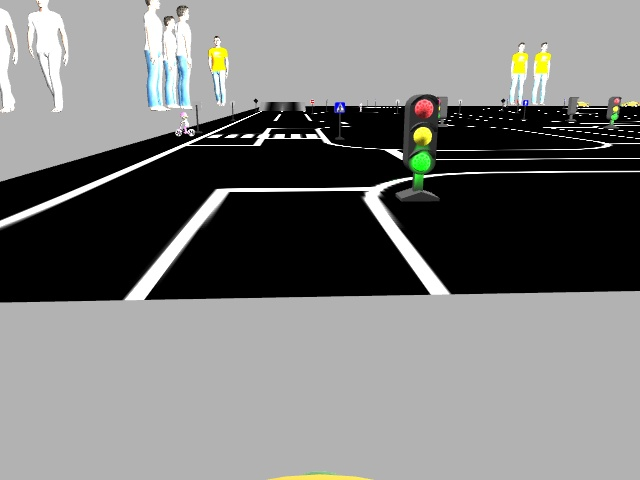Crosswalk: (334, 101, 344, 112)
Pedestrian: (174, 111, 194, 136)
TrafficLight: (403, 94, 439, 172)
